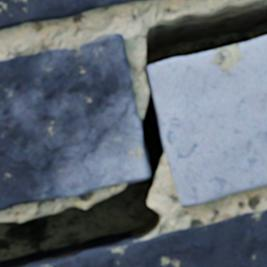brick: (0, 34, 149, 210), (147, 36, 266, 205), (40, 210, 266, 266), (0, 0, 153, 30)
crack: (0, 0, 266, 266)
